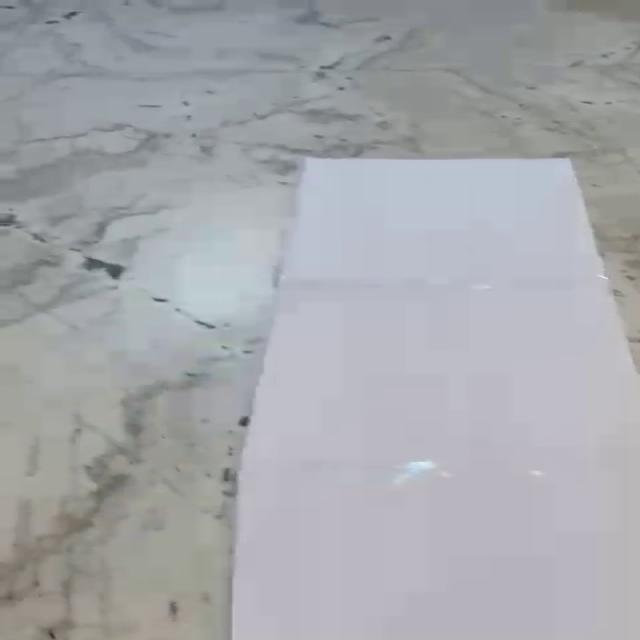road: (229, 158, 640, 640)
